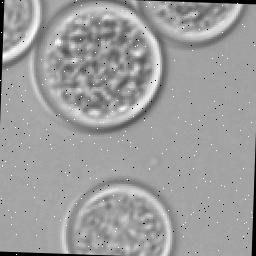picoshell: (30, 1, 164, 133), (62, 183, 172, 256), (140, 2, 244, 48), (2, 0, 40, 68)
